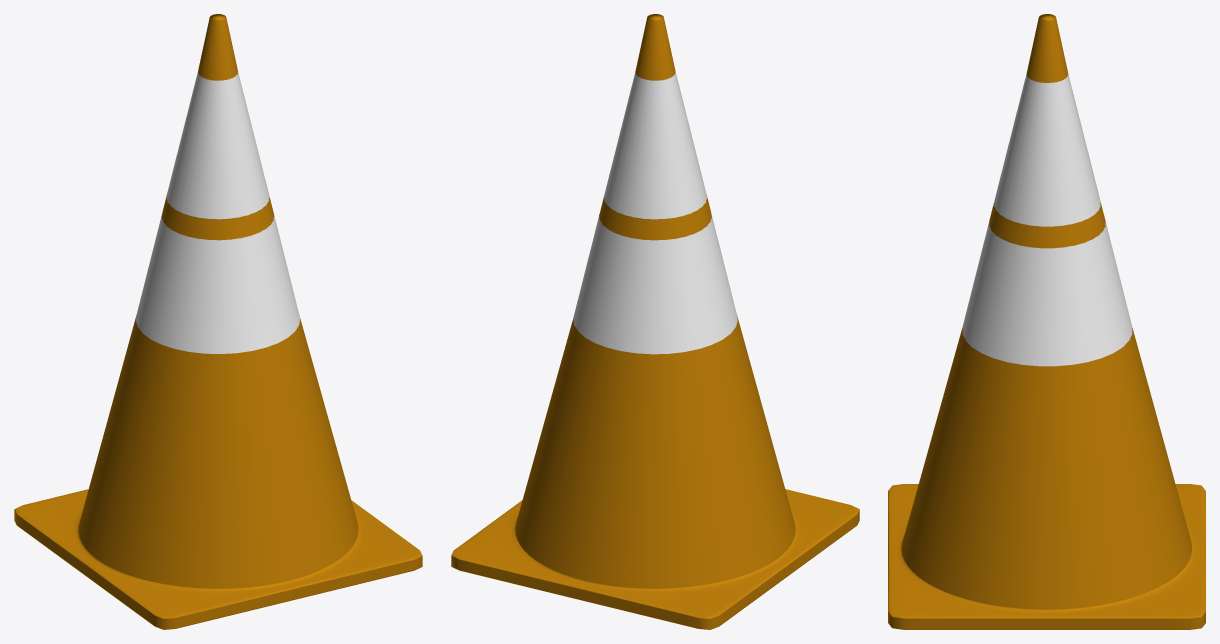
The model's file is Traffic_Cone_2.fbx.
3 views of the same model, side by side, from view 1: azimuth 30°, elevation 25°; view 2: azimuth 150°, elevation 25°; view 3: azimuth 270°, elevation 25° (orthographic). The views are drawn at different scales.
Visible parts, largest first — view 1: Cone; view 2: Cone; view 3: Cone.
Part boxes in pixels (<box>): Cone: <box>14,14,422,629</box>; Cone: <box>451,14,859,629</box>; Cone: <box>888,14,1205,629</box>.
Size of the model in its own units: 39.9 by 75.63 by 39.9.
